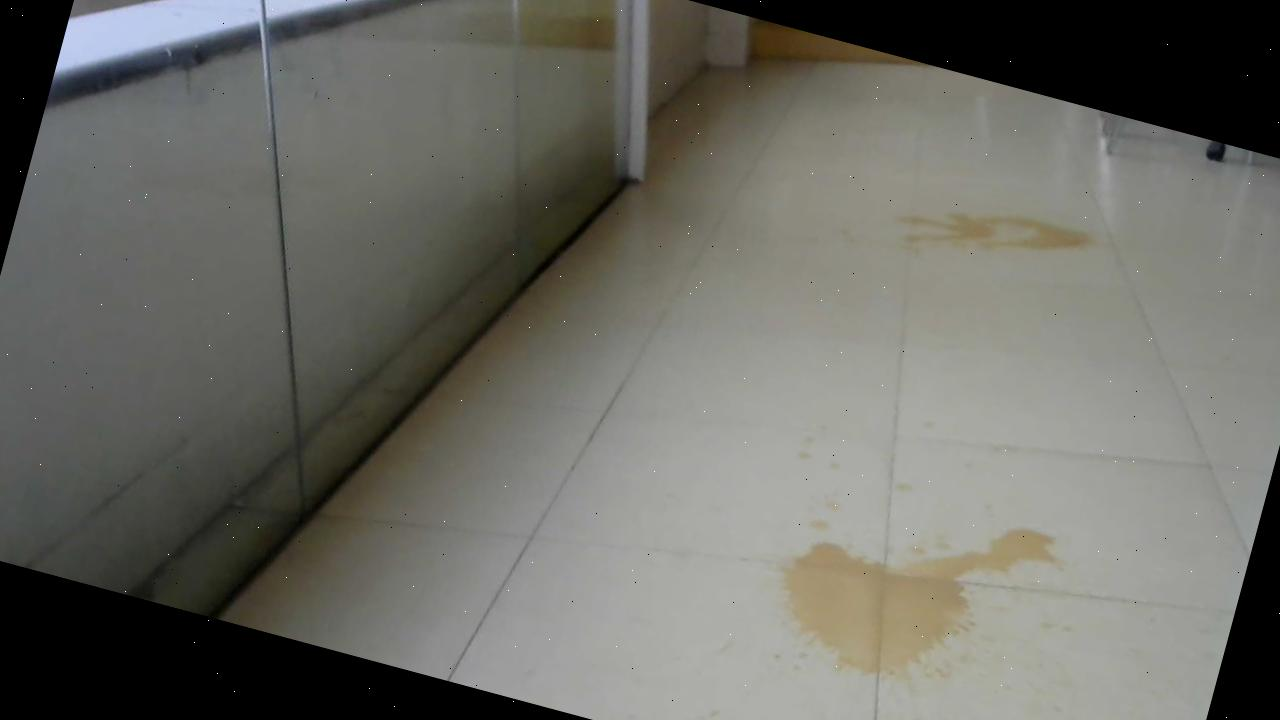dirty_floor: (725, 452, 1076, 720)
